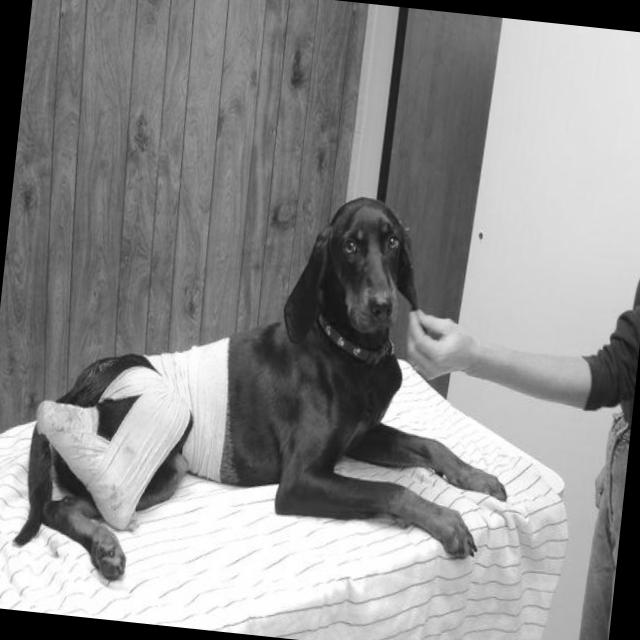laying down: (3, 160, 540, 628)
